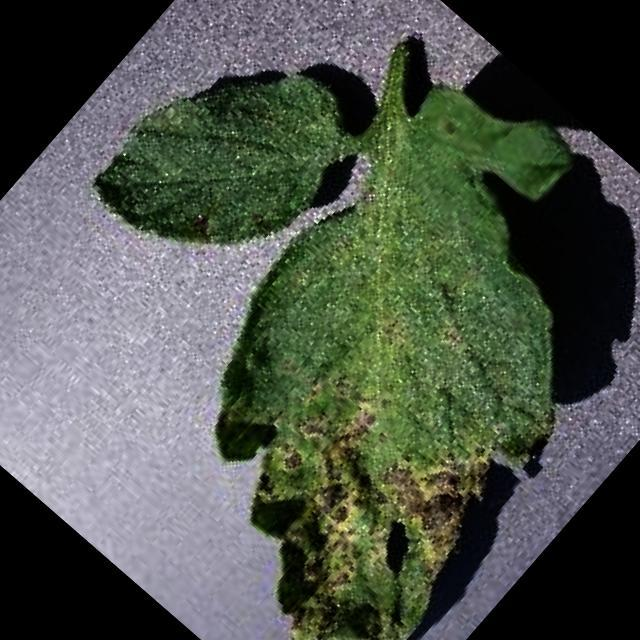Tomato Septoria spot leaf: (56, 43, 640, 640), (79, 7, 375, 309)
